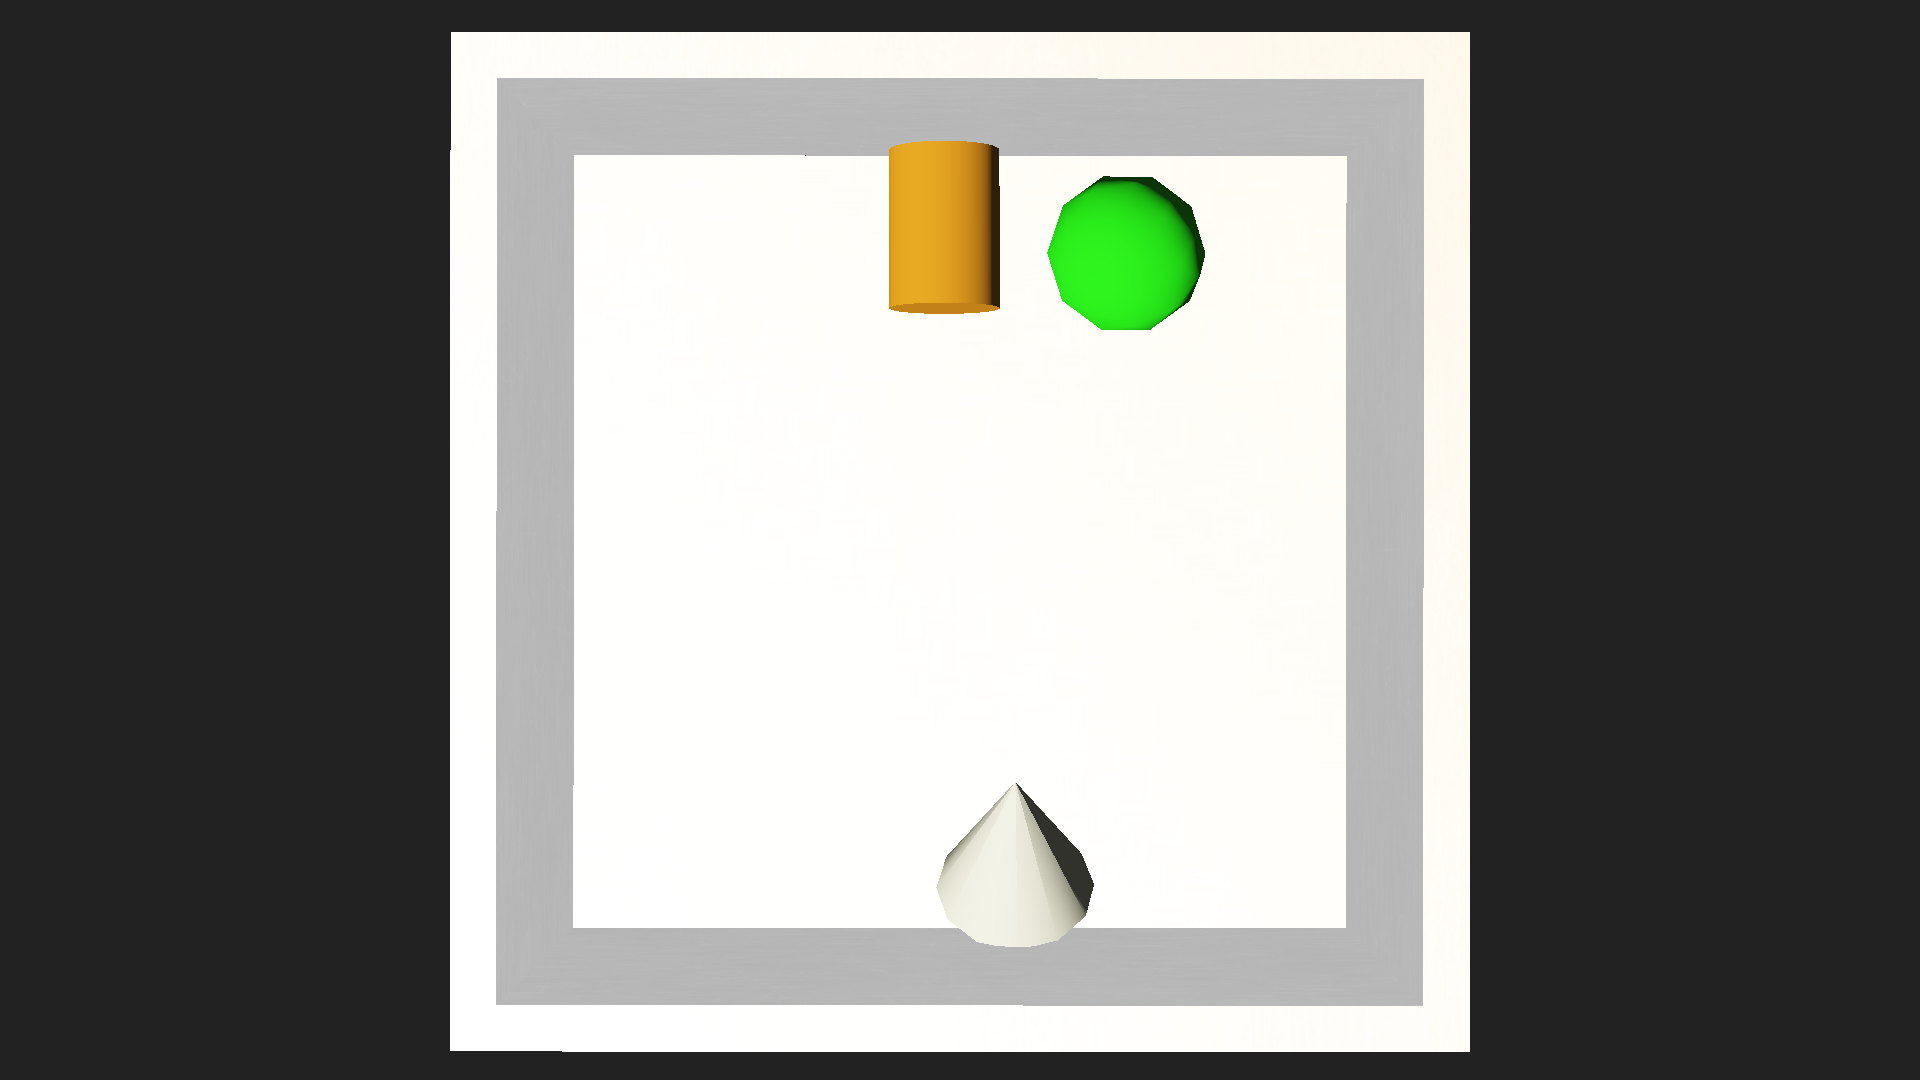cone: (886, 141, 1000, 314)
cylinder: (938, 716, 1096, 964)
sphere: (1047, 173, 1205, 334)
